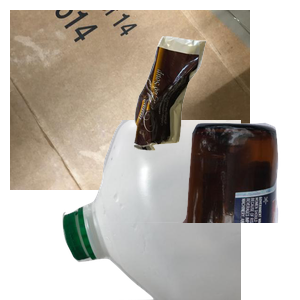cardboard: (10, 10, 250, 190)
glass: (87, 120, 300, 300)
plastic: (60, 120, 300, 300)
trash: (131, 34, 300, 177)
